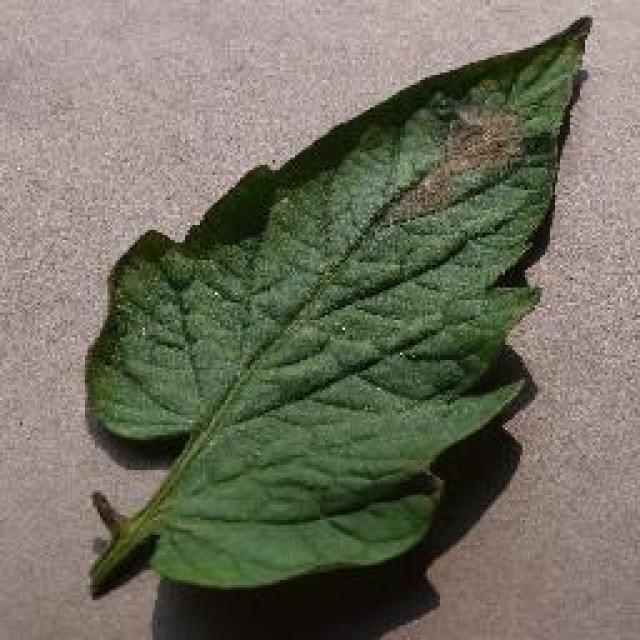Tomato___Late_blight: (85, 18, 592, 600)
